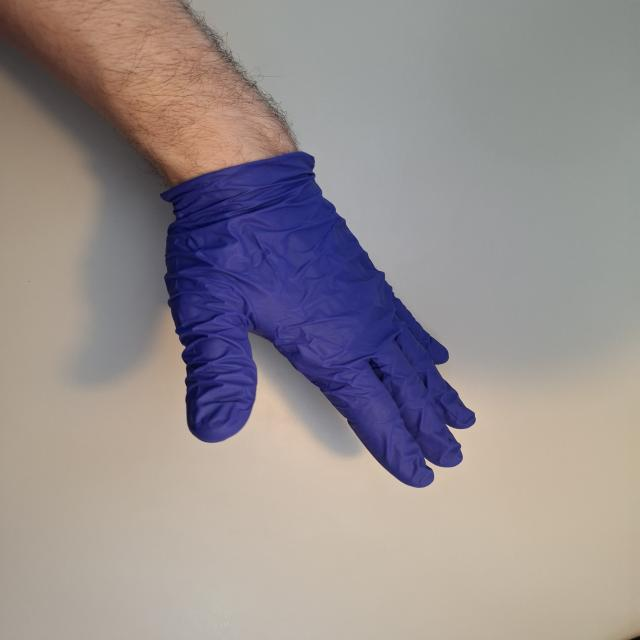glove_on: (153, 148, 482, 490)
